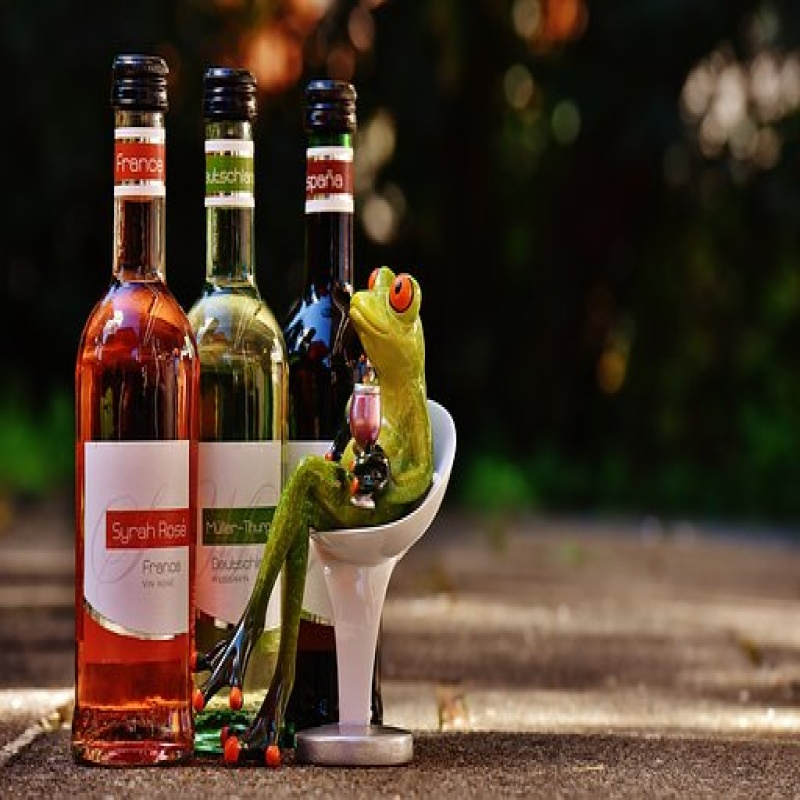wine: (80, 63, 195, 761), (198, 69, 289, 757)
